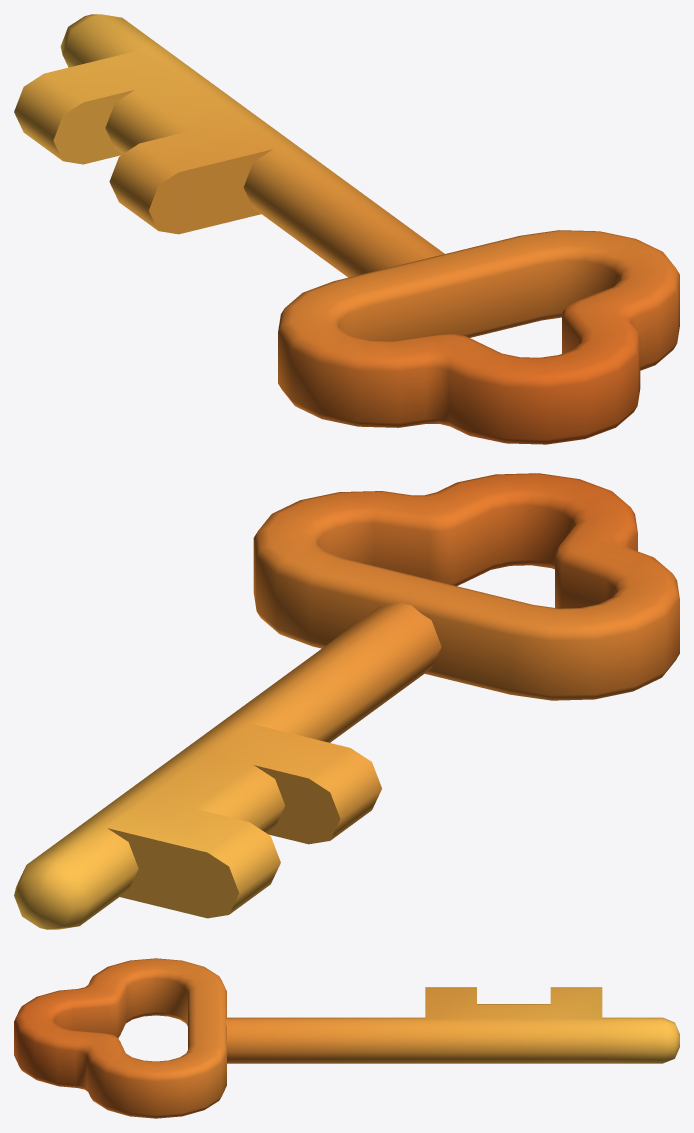
3 renders of one model, top to bottom at view 1: azimuth 30°, elevation 25°; view 2: azimuth 150°, elevation 25°; view 3: azimuth 270°, elevation 25°, orthographic. The views are drawn at different scales.
Parts seen in each view (by area): view 1: Gold; view 2: Gold; view 3: Gold.
Part boxes in pixels (box(x1,y1,x2,y2)): Gold: box(14, 14, 679, 444); Gold: box(14, 473, 679, 929); Gold: box(14, 958, 679, 1118).
Bounding box in the file's own units: 400 × 71.56 × 938.
